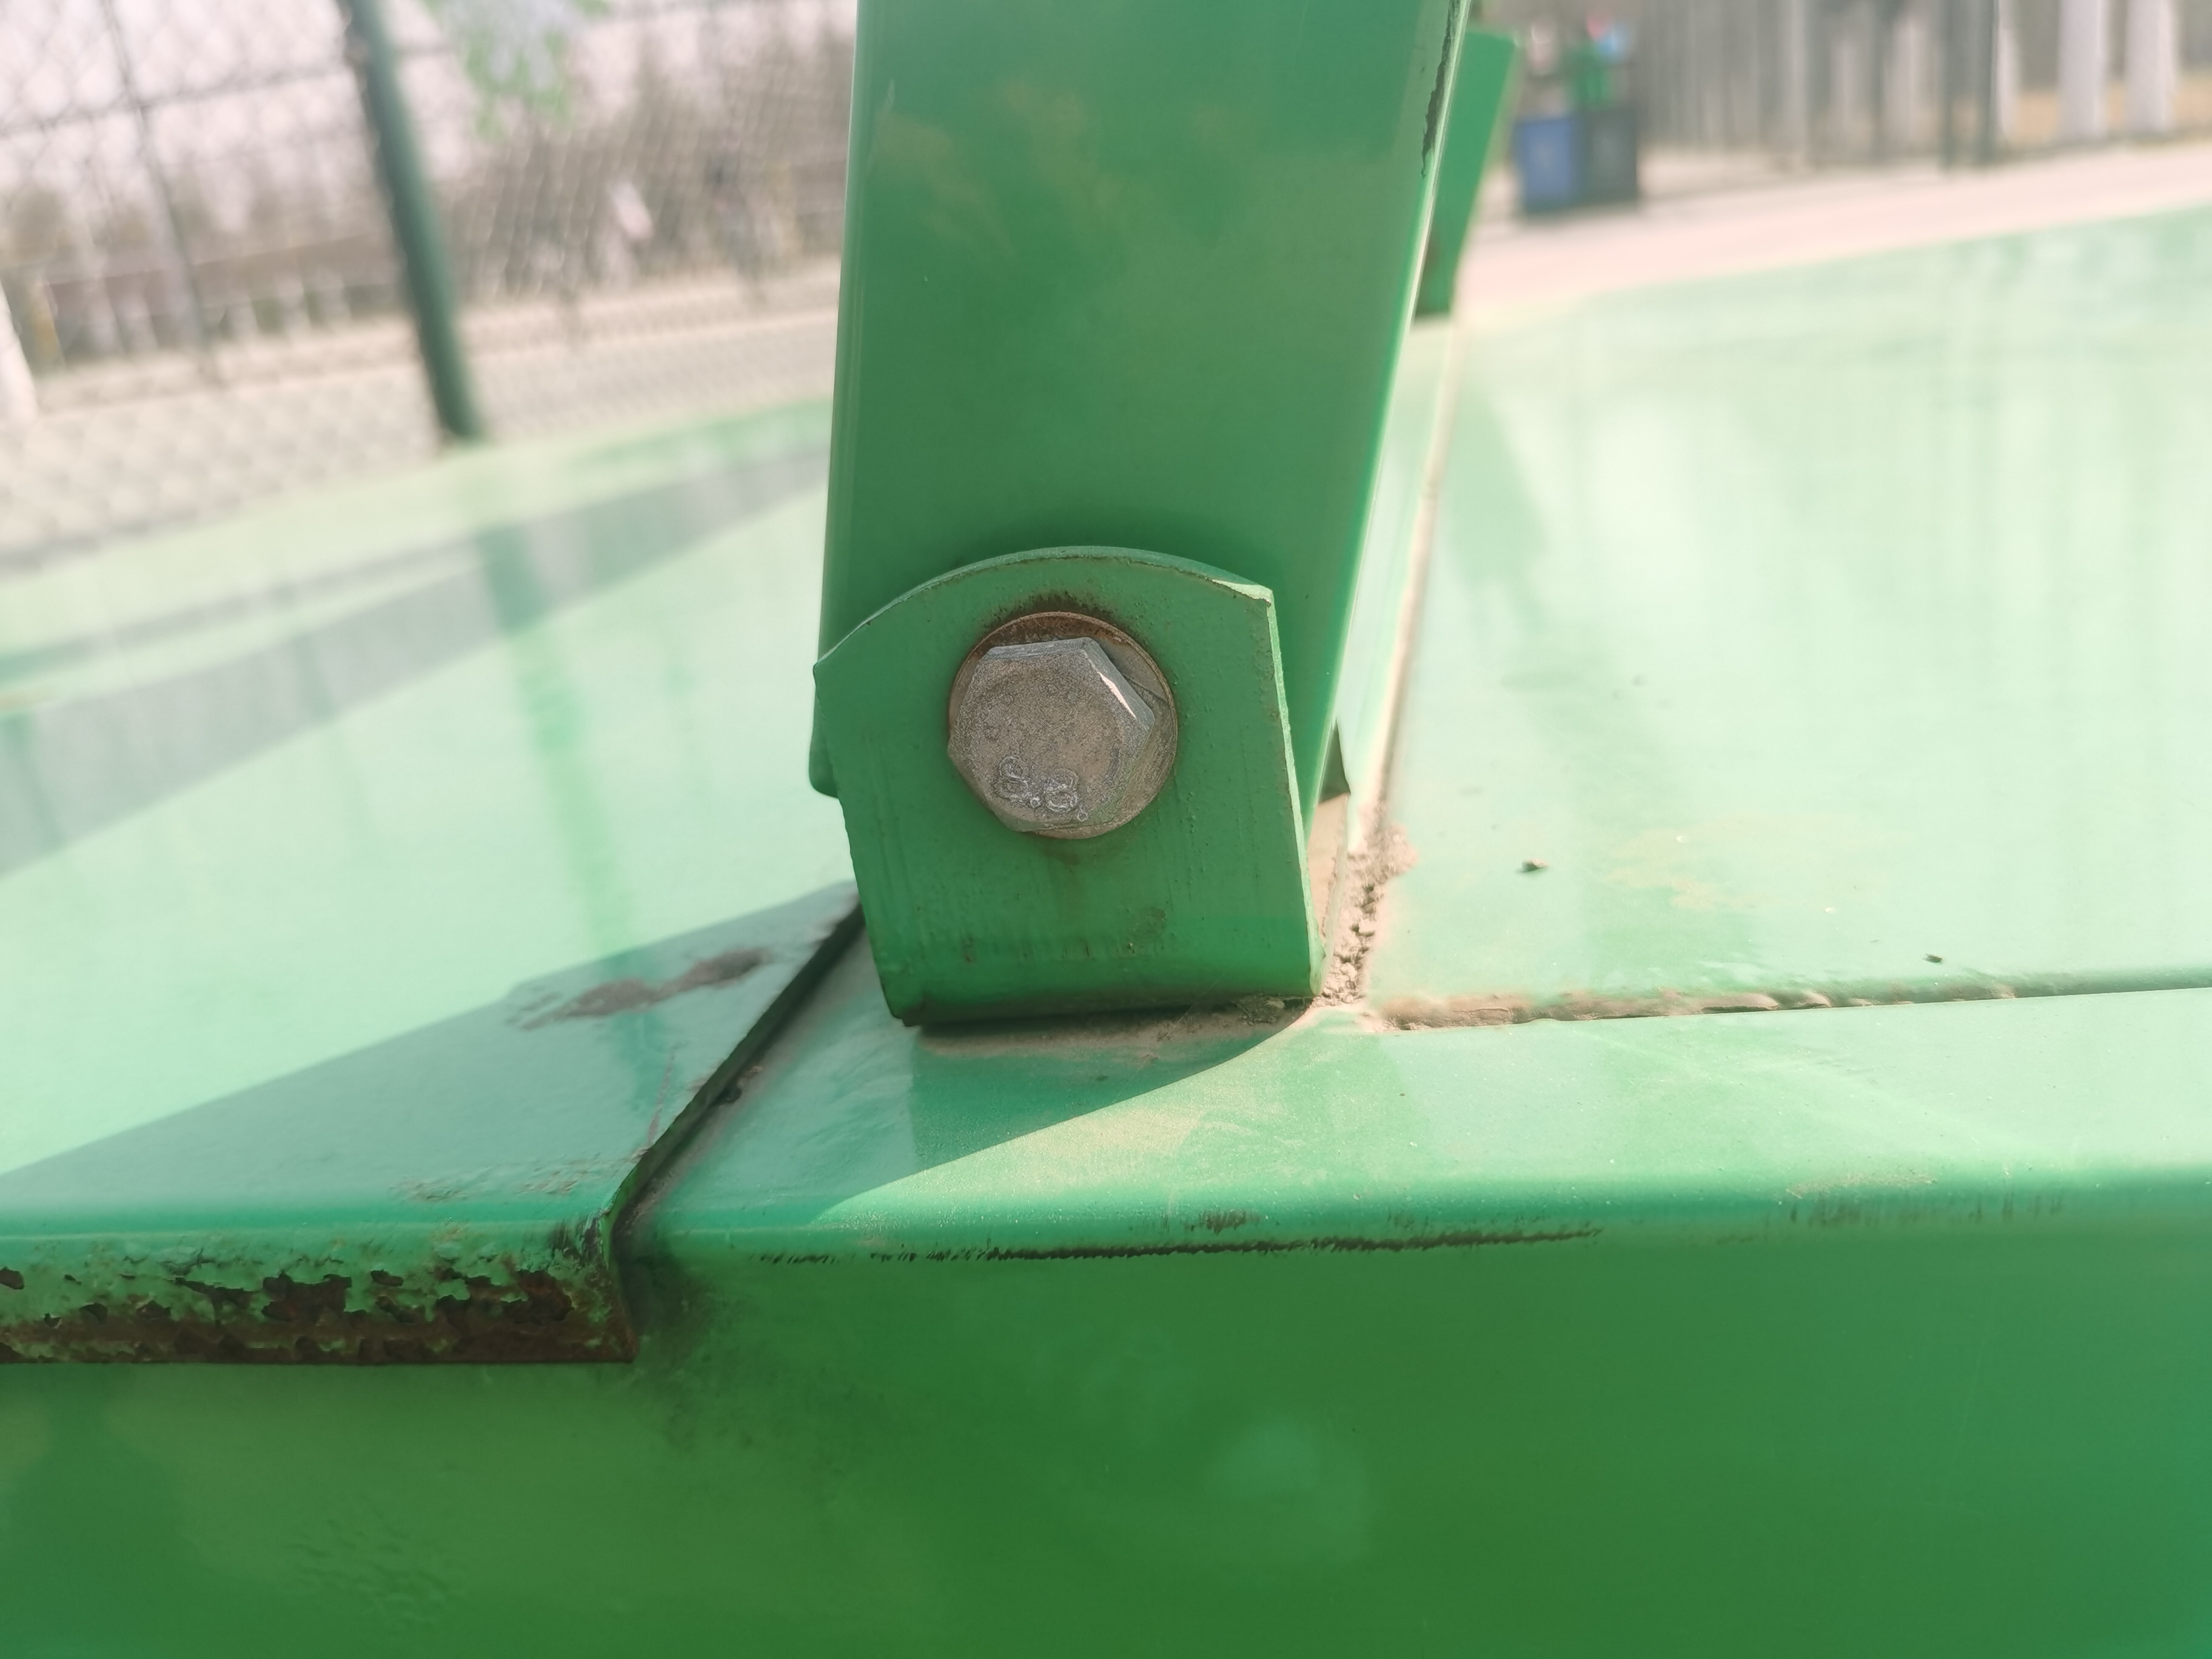bolt_a: (941, 631, 1162, 840)
